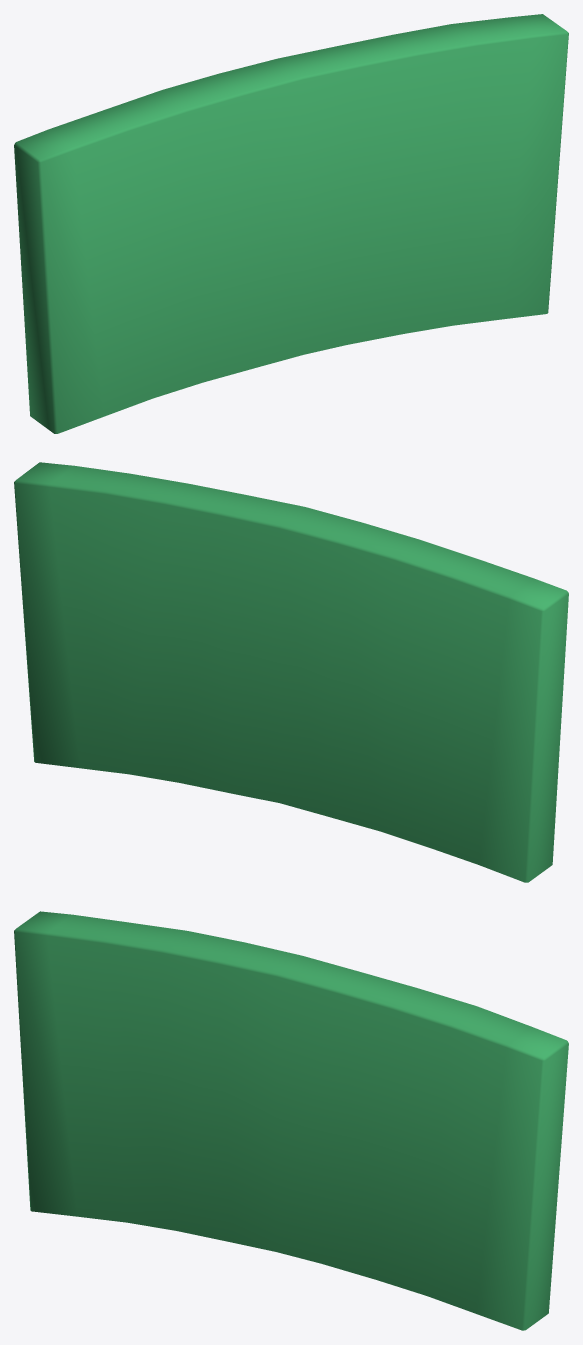
Rendered from SM_wallSimple_low.fbx.
The picture shows the model from 3 angles, top to bottom: view 1: azimuth 30°, elevation 25°; view 2: azimuth 150°, elevation 25°; view 3: azimuth 330°, elevation 25°; orthographic projection.
Parts seen in each view (by area): view 1: SM_wallSimple_low; view 2: SM_wallSimple_low; view 3: SM_wallSimple_low.
Boxes of the visible parts, x1,y1,x2,y2 form: SM_wallSimple_low: (14, 14, 568, 433); SM_wallSimple_low: (14, 462, 568, 882); SM_wallSimple_low: (14, 911, 568, 1330).
Bounding box in the file's own units: 504 × 270 × 45.42.
